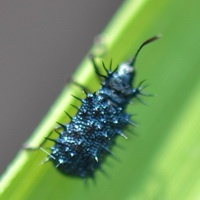insect: (39, 36, 158, 177)
